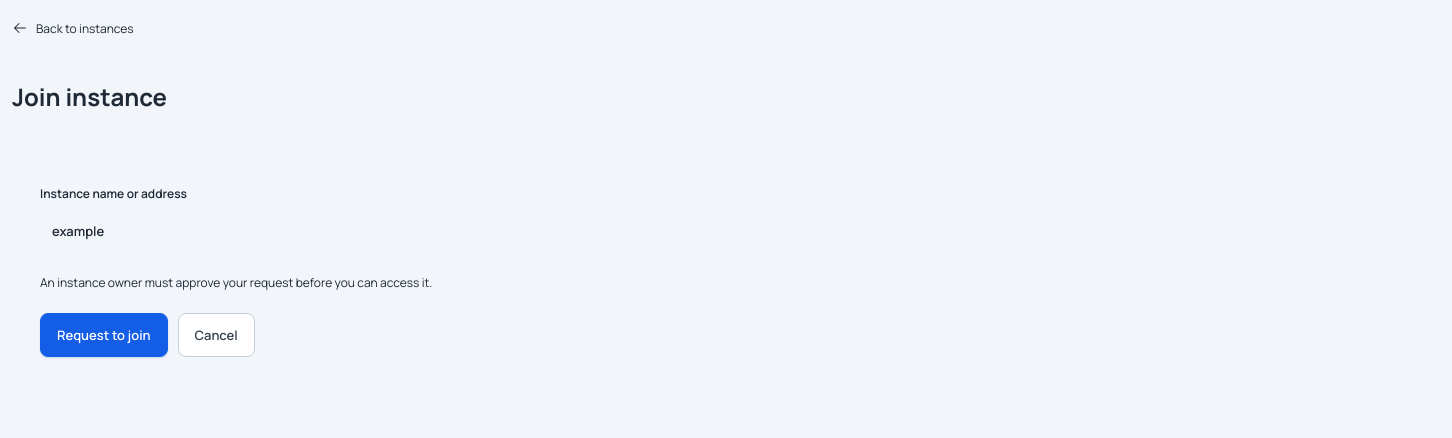
Test: rejects invalid instance address https://my-team.evil.test
Type "https://my-team.evil.test" into the field labelled "Instance name or address". click: (732, 231)
box: x1=40 y1=209 x2=1424 y2=253
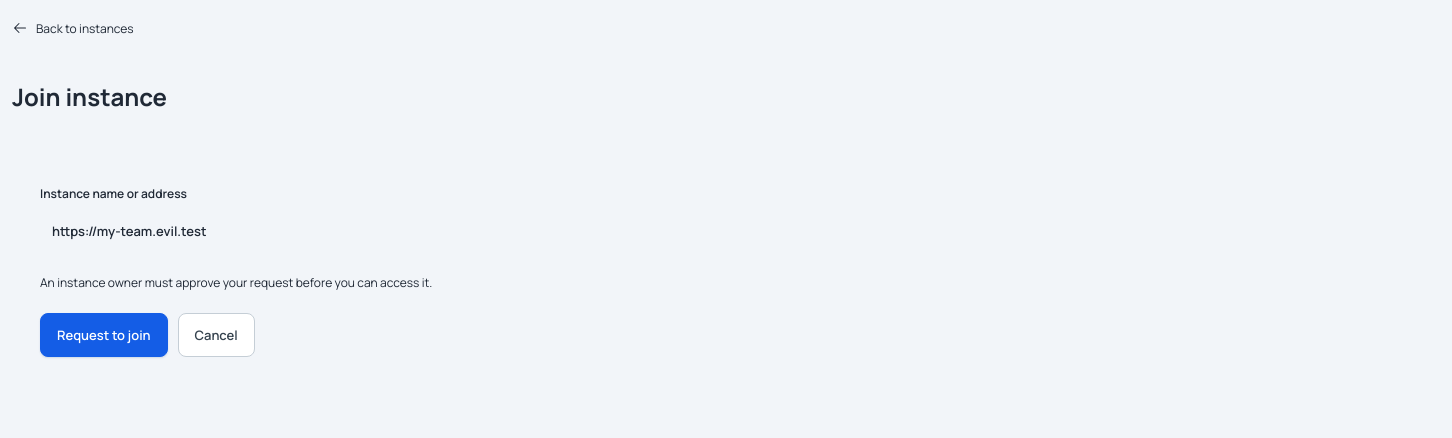
Submit the form labelled "Instance name or address", box x1=12 y1=157 x2=1451 y2=385
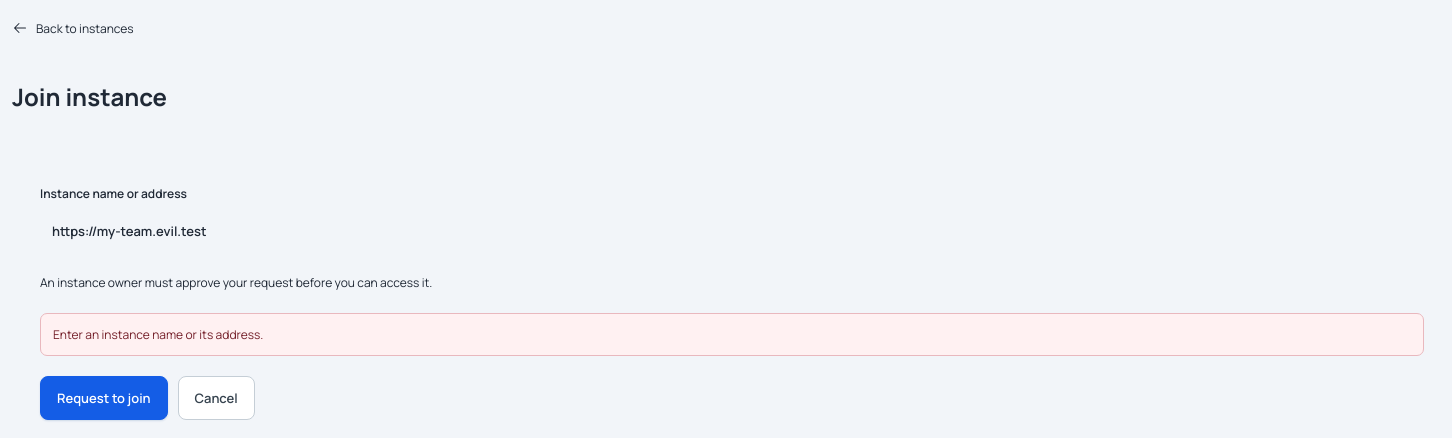
expect the message "Enter an instance name or its address." is shown: met, box x1=40 y1=313 x2=1424 y2=356
